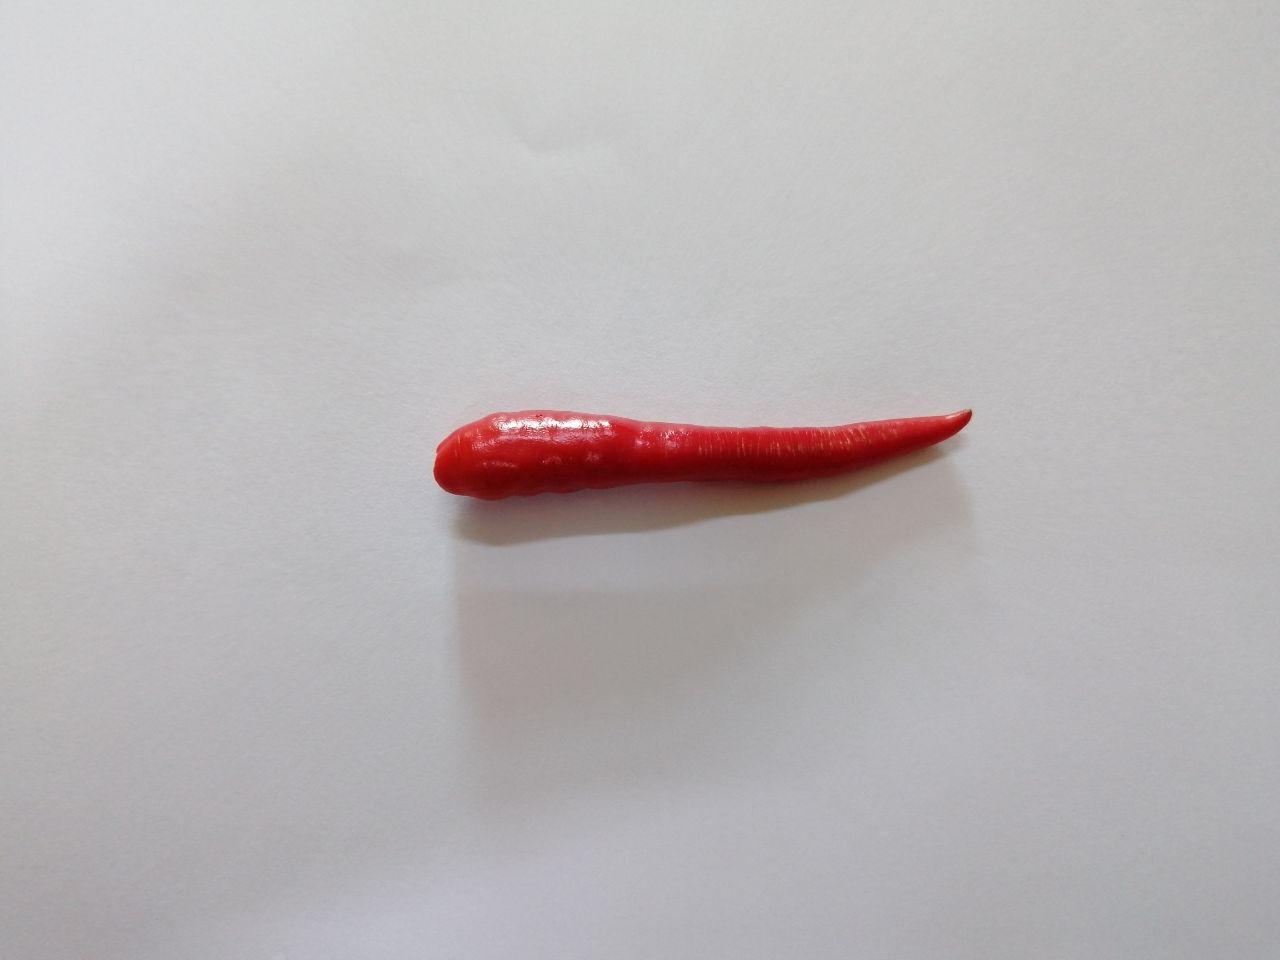lada merah: (406, 378, 1002, 536)
